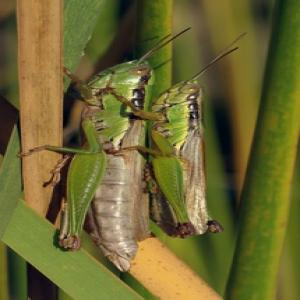locust: (69, 16, 237, 280)
